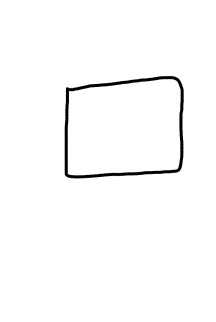Square: (61, 74, 187, 181)
